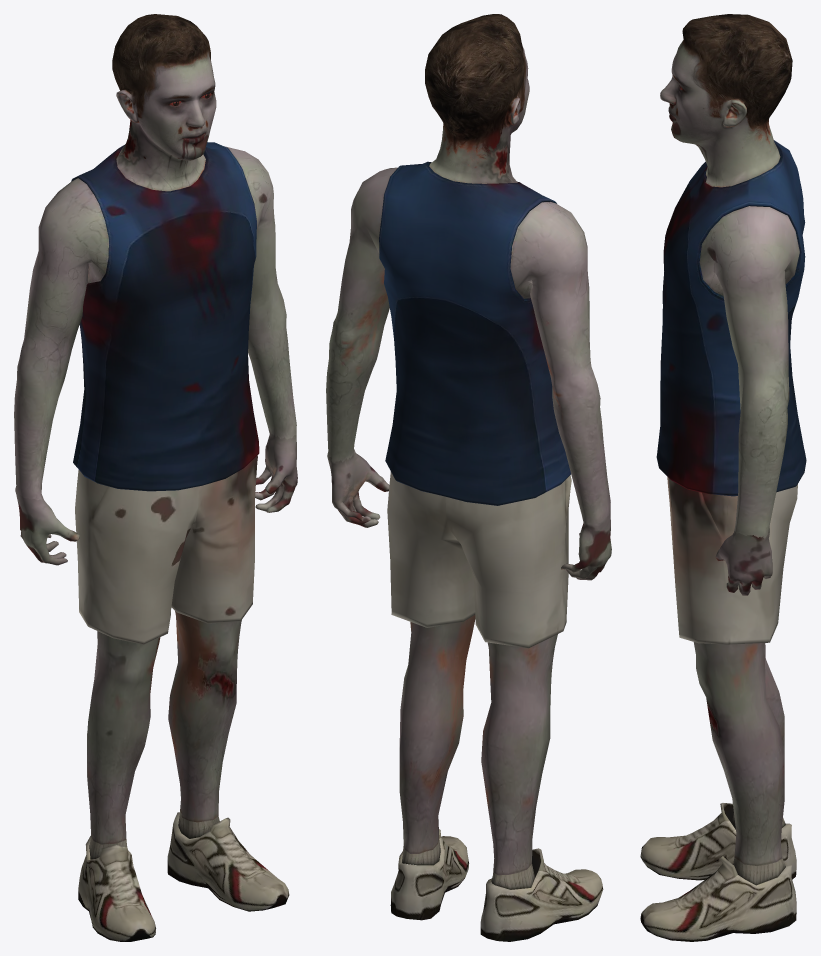
The model's file is athlete.glb.
3 views of the same model, side by side, from view 1: azimuth 30°, elevation 25°; view 2: azimuth 150°, elevation 25°; view 3: azimuth 270°, elevation 25° (orthographic).
Parts seen in each view (by area): view 1: athlete; view 2: athlete; view 3: athlete.
Boxes of the visible parts, left/top/right/bottom form: athlete: left=14, top=14, right=297, bottom=941; athlete: left=326, top=14, right=611, bottom=941; athlete: left=640, top=14, right=806, bottom=941.
Size of the model in its own units: 0.59 by 1.8 by 0.3088.
2 materials, 2 textured.
